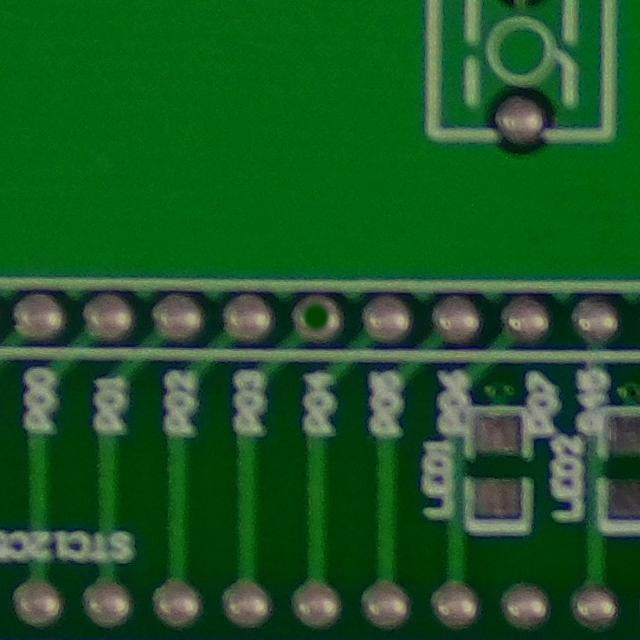missing_hole: (285, 284, 356, 356)
